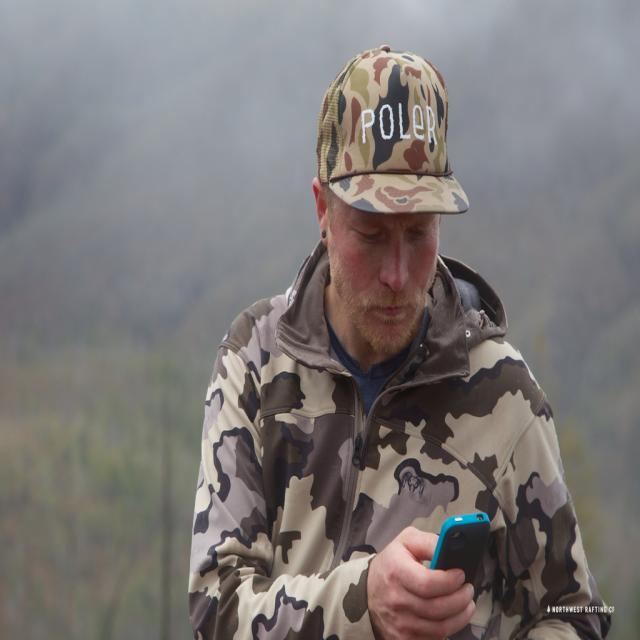Mobile-phone: (440, 514, 500, 590)
